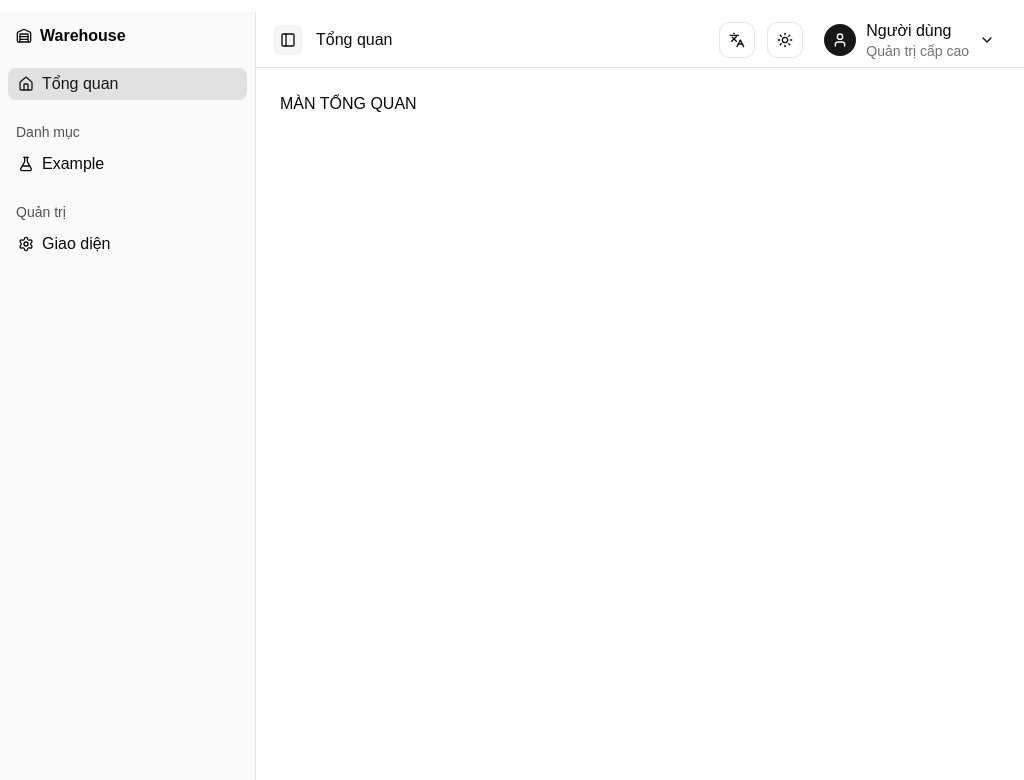
Scenario: AppShell — breadcrumb và tiêu đề tab › chuyển màn → breadcrumb và tiêu đề đổi theo
The image size is (1024, 780).
Click the link "Example" at (61, 164), box [18,155,104,172]
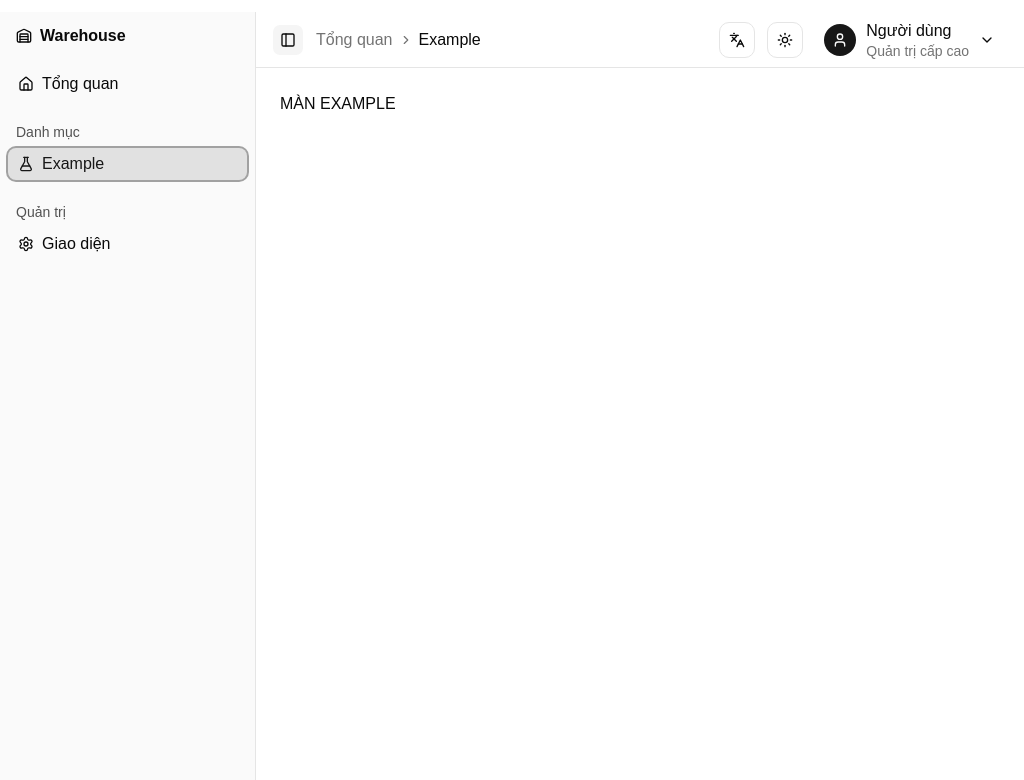
Check: the text "MÀN EXAMPLE" is shown, box [280,95,396,112]
